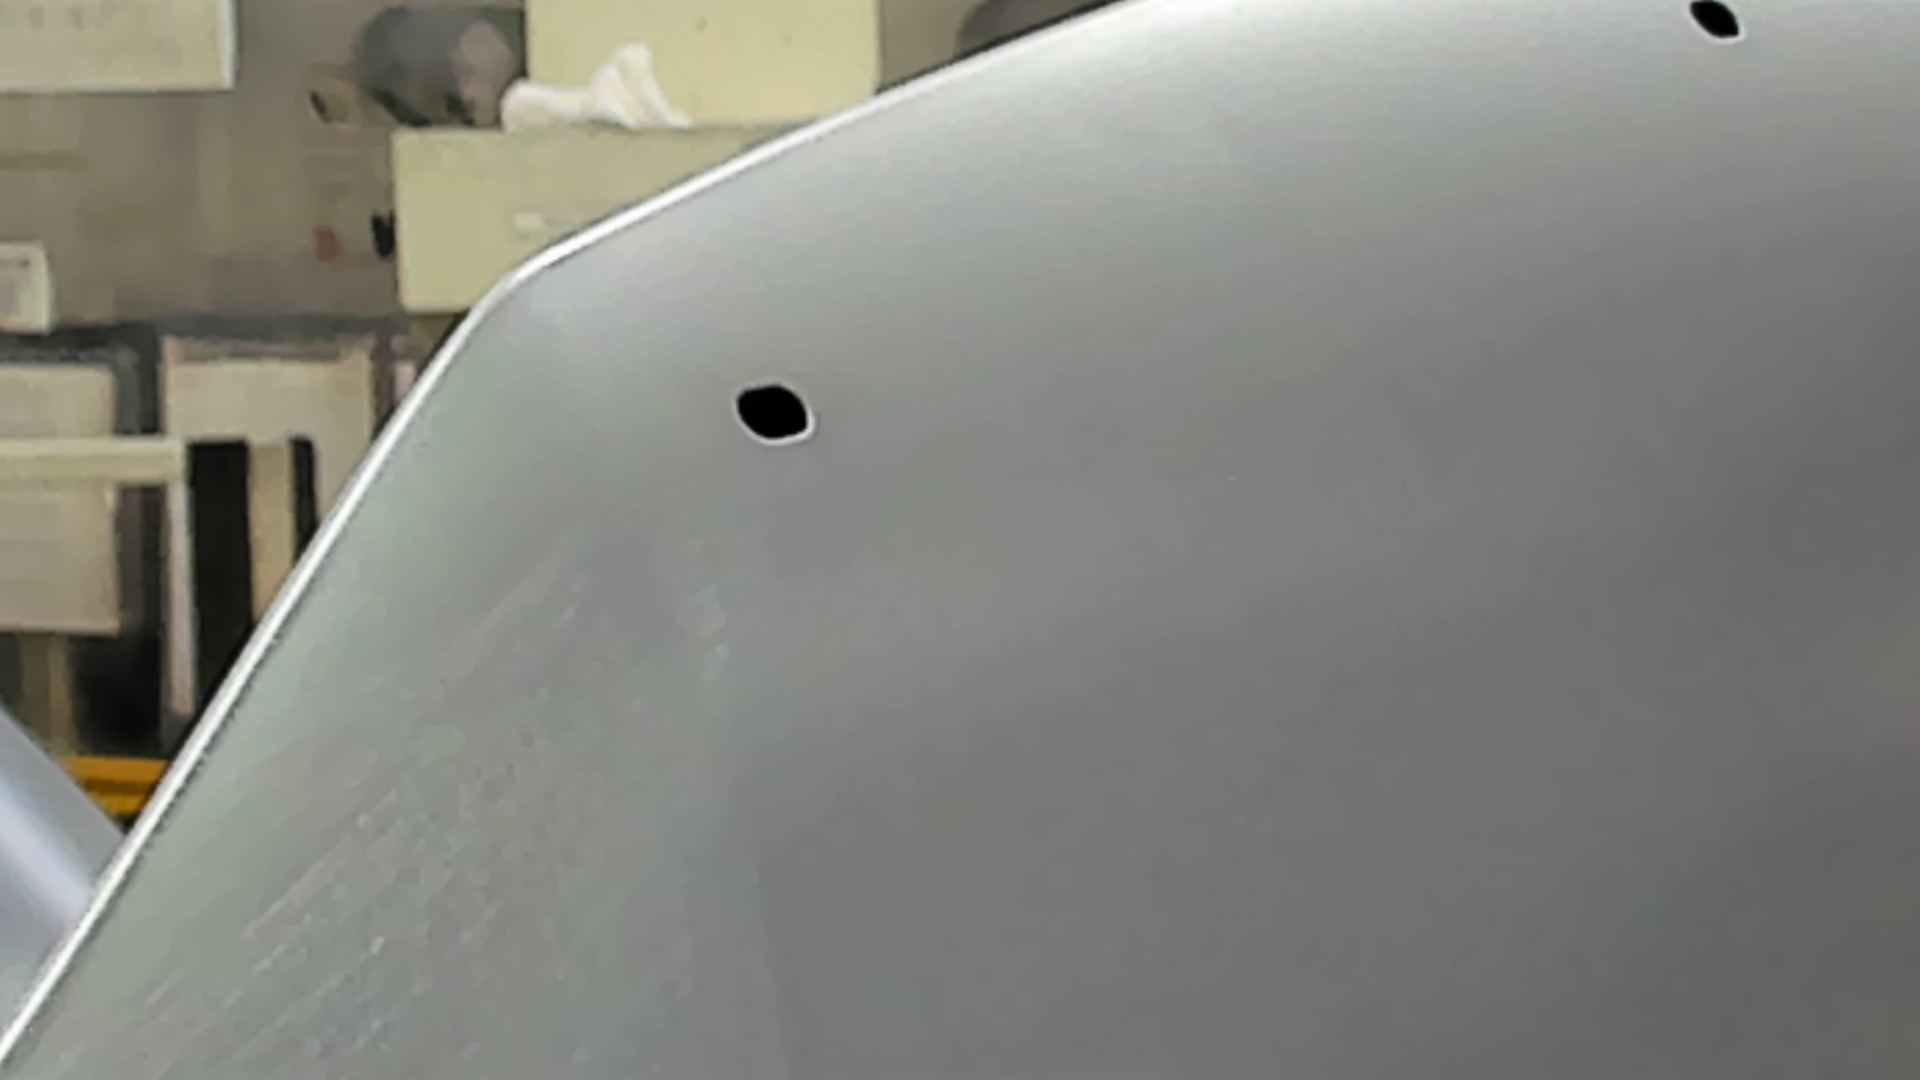amorfo: (731, 376, 815, 447), (1687, 1, 1749, 49)
